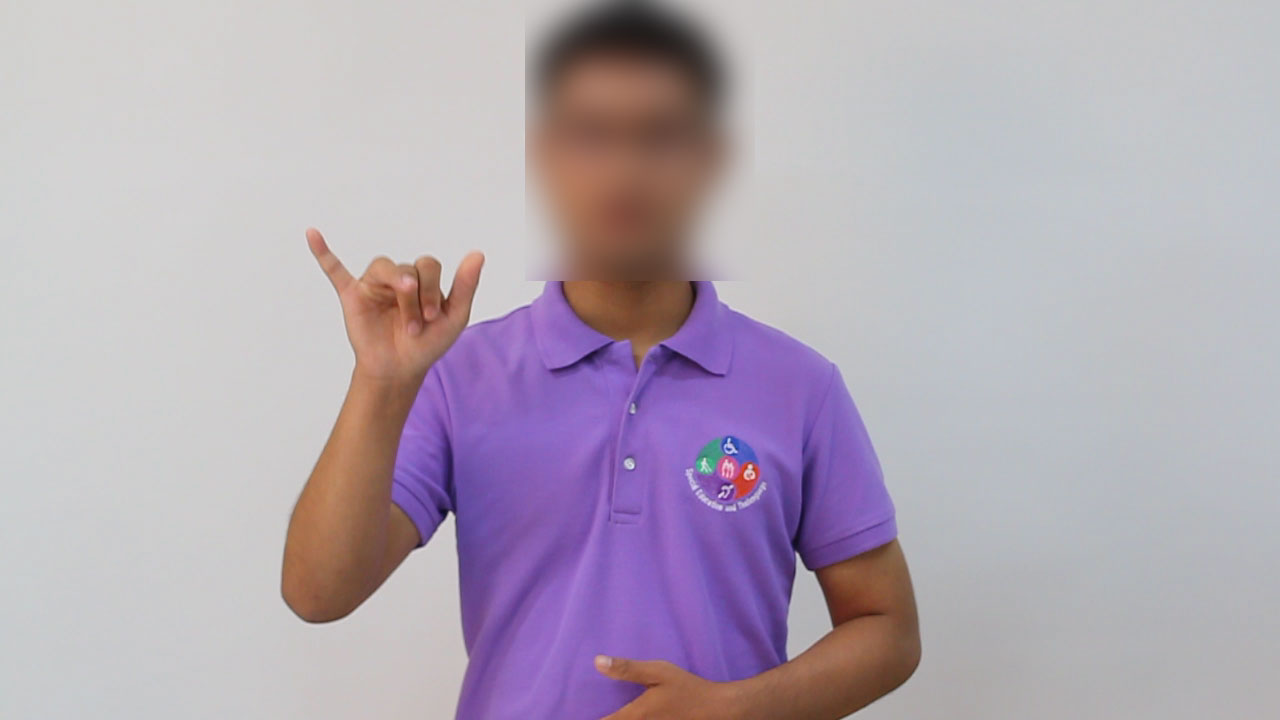yor: (297, 218, 497, 396)
